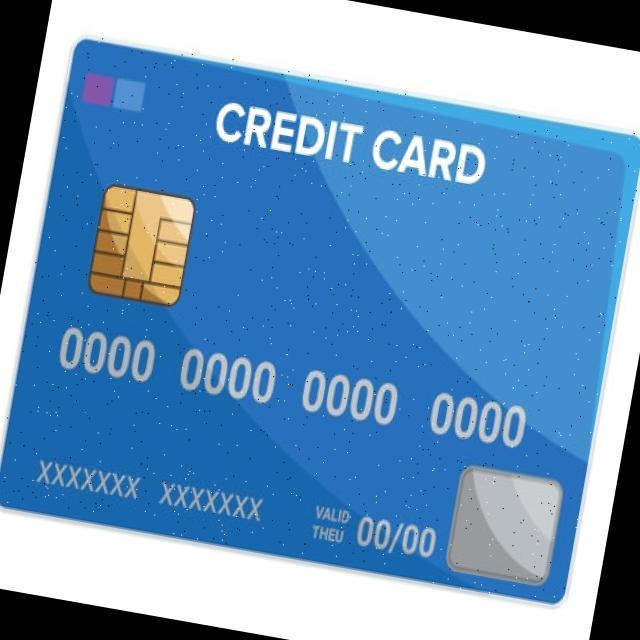payment_card: (1, 29, 638, 616)
